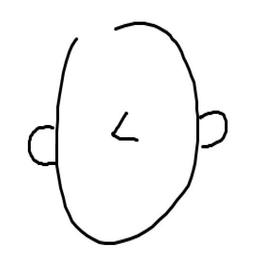ear: (24, 121, 64, 167), (193, 108, 231, 151)
pointy_nose: (100, 107, 147, 145)
